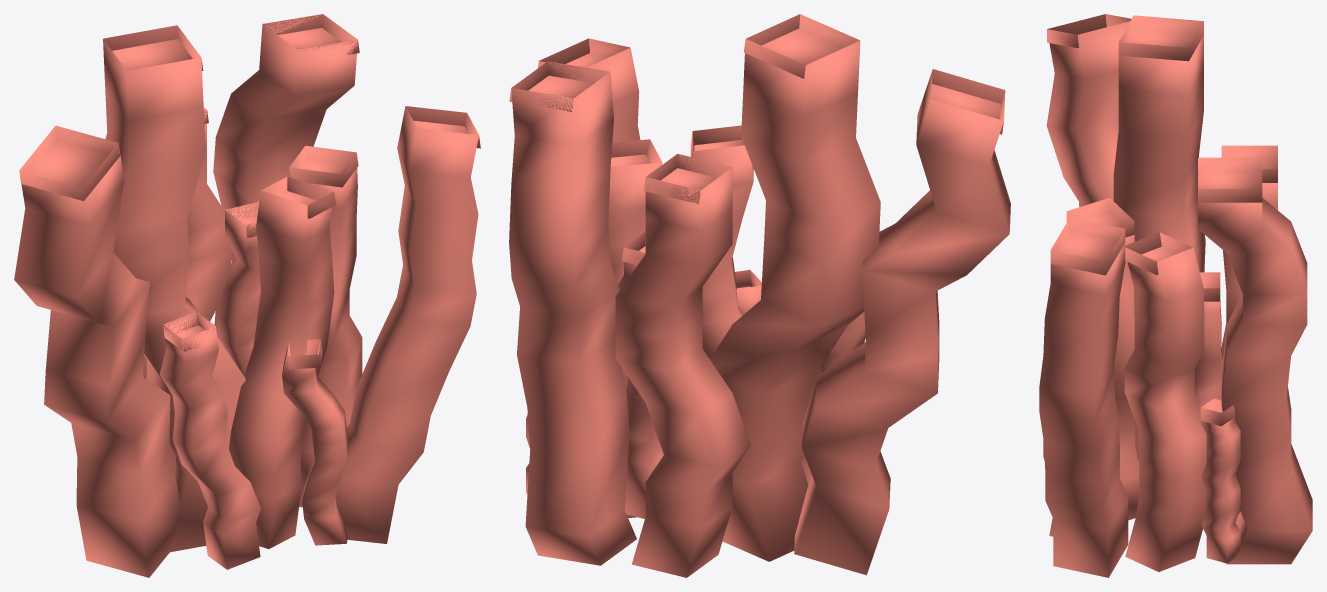
The model's file is coral5.glb.
3 views of the same model, side by side, from view 1: azimuth 30°, elevation 25°; view 2: azimuth 150°, elevation 25°; view 3: azimuth 270°, elevation 25° (orthographic). The views are drawn at different scales.
Visible parts, largest first — view 1: Cube.003, Cube.010, Cube.002, Cube.009, Cube.004, Cube.008, Cube.006, Cube.001, Cube, Cube.007; view 2: Cube.002, Cube.004, Cube.003, Cube.007, Cube.009, Cube.006, Cube, Cube.010, Cube.008, Cube.001; view 3: Cube.004, Cube.010, Cube.006, Cube.002, Cube.003, Cube.005, Cube.009, Cube, Cube.007.
Part boxes in pixels (x1,y1,x2,y2): Cube.003: (14, 125, 180, 577); Cube.010: (336, 106, 480, 543); Cube.002: (103, 25, 245, 552); Cube.009: (229, 176, 335, 549); Cube.004: (213, 14, 359, 327); Cube.008: (159, 311, 260, 569); Cube.006: (289, 145, 362, 507); Cube.001: (282, 339, 348, 545); Cube: (216, 201, 260, 375); Cube.007: (143, 107, 230, 378); Cube.002: (710, 14, 880, 561); Cube.004: (509, 61, 636, 565); Cube.003: (794, 69, 1010, 575); Cube.007: (615, 153, 750, 577); Cube.009: (690, 125, 753, 358); Cube.006: (608, 139, 662, 517); Cube: (618, 231, 663, 518); Cube.010: (537, 38, 640, 142); Cube.008: (801, 312, 865, 484); Cube.001: (735, 270, 761, 313); Cube.004: (1198, 157, 1312, 564); Cube.010: (1039, 217, 1128, 577); Cube.006: (1124, 232, 1206, 571); Cube.002: (1113, 15, 1205, 462); Cube.003: (1046, 14, 1131, 207); Cube.005: (1200, 398, 1240, 563); Cube.009: (1066, 197, 1139, 520); Cube: (1194, 272, 1222, 408); Cube.007: (1221, 145, 1277, 514).
Size of the model in its own units: 7.54 by 7.95 by 4.27.
